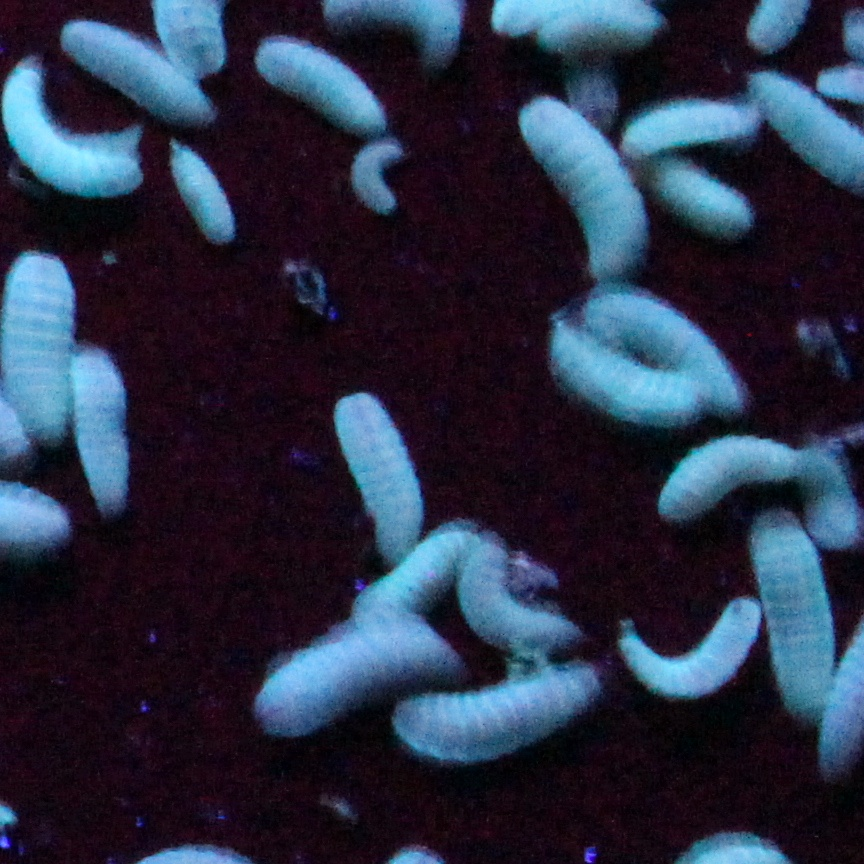larve: (514, 96, 674, 284), (258, 636, 454, 732), (594, 292, 758, 400), (57, 20, 223, 120), (756, 515, 837, 719), (542, 322, 714, 412), (334, 408, 430, 560), (410, 676, 590, 748), (3, 260, 71, 449), (252, 43, 400, 126), (655, 444, 786, 534), (622, 604, 750, 684), (77, 354, 140, 506), (163, 149, 246, 240), (658, 160, 754, 236), (354, 140, 412, 212)
